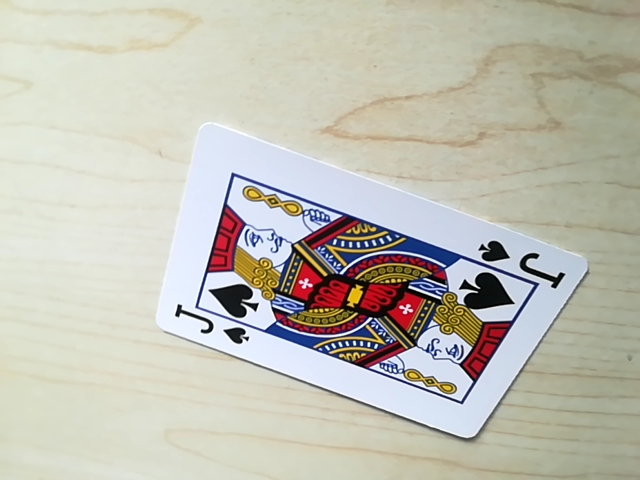ht j: (470, 234, 555, 280), (170, 314, 256, 351)
